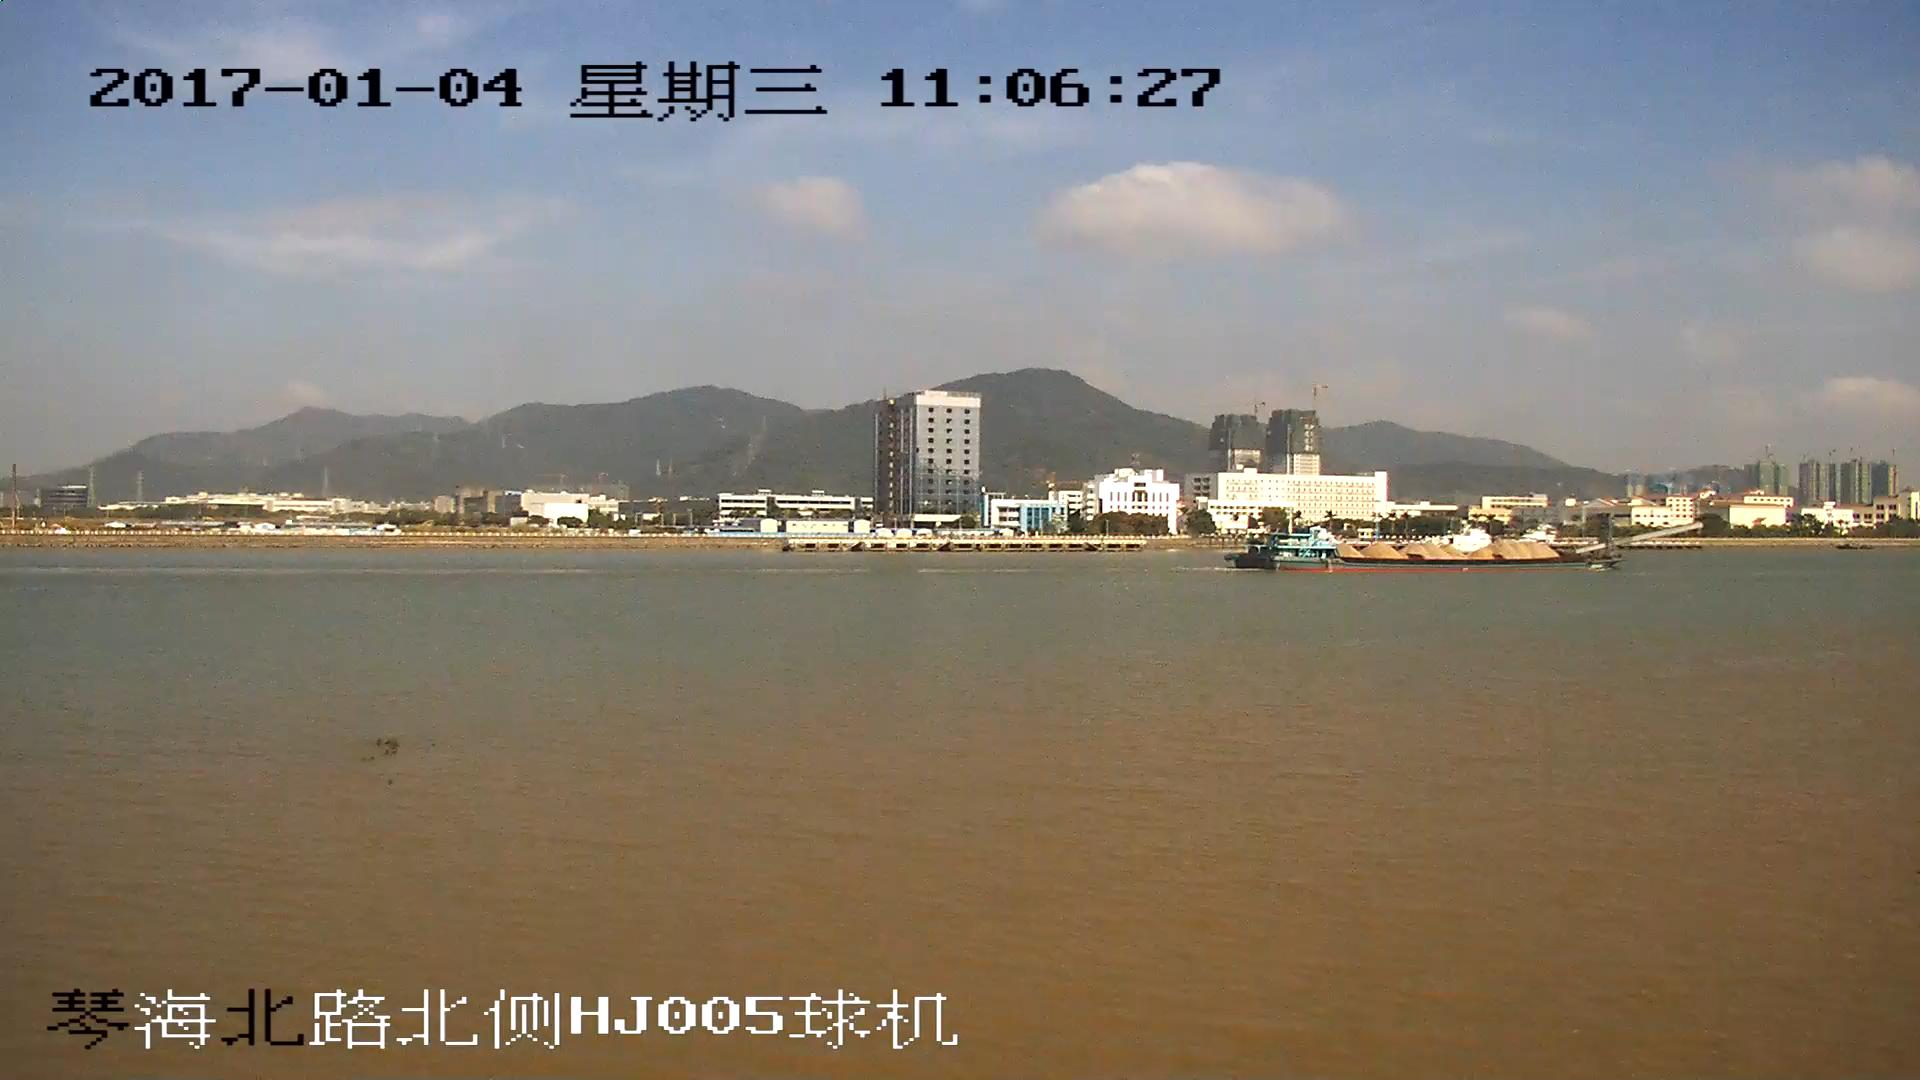ore carrier: (1237, 521, 1698, 571)
